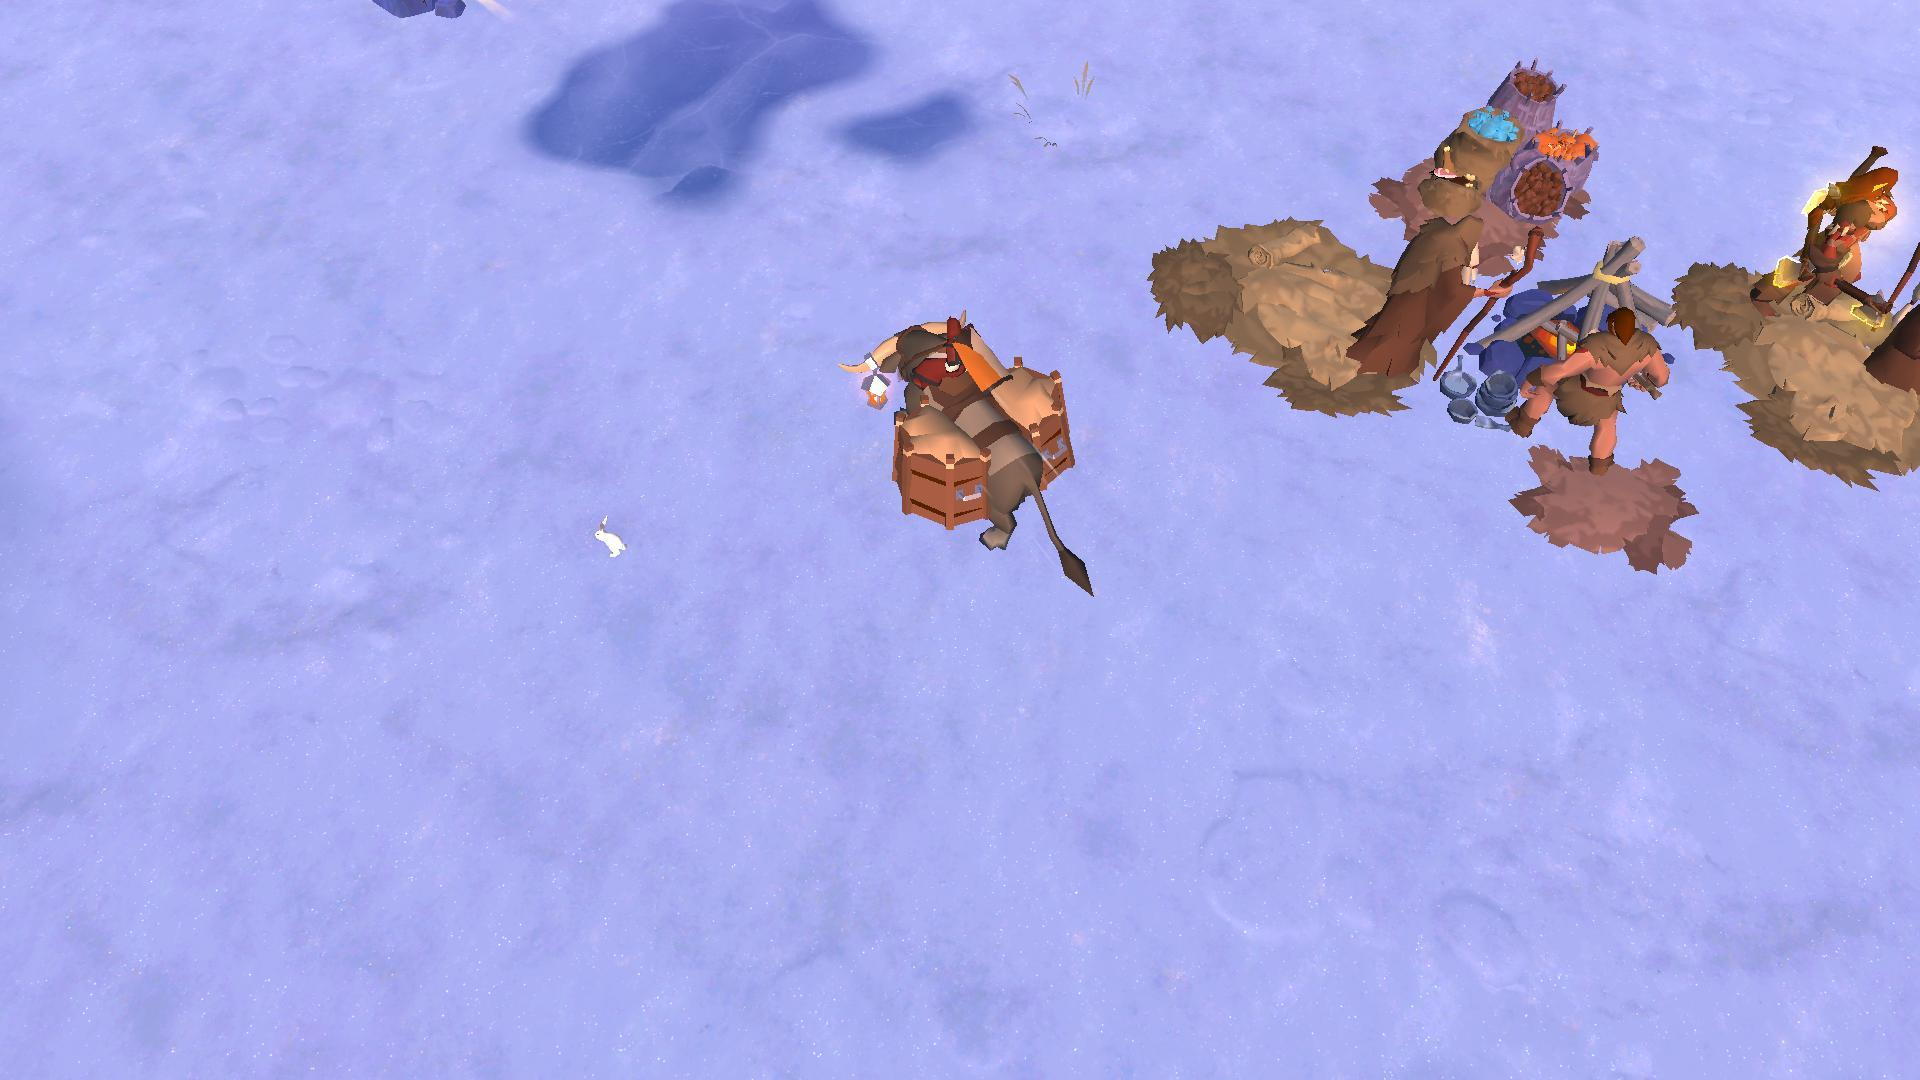enemy_factionKeeper: (1356, 202, 1484, 400), (1753, 146, 1908, 306), (1522, 297, 1663, 472)
